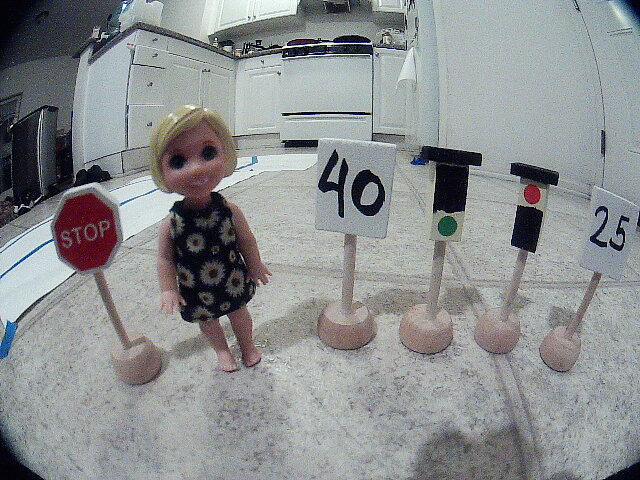Green Traffic Light: (407, 129, 492, 265)
Person: (116, 108, 307, 378)
Red Traffic Light: (496, 154, 570, 269)
Speed Limit 25: (583, 173, 640, 294)
Speed Limit 40: (305, 122, 404, 250)
Stop Sign: (31, 179, 139, 281)
